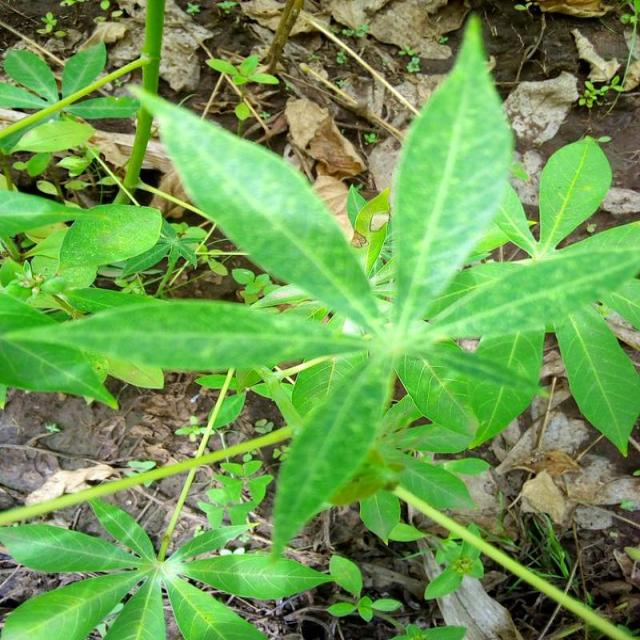cassava leaf: (124, 79, 385, 335), (388, 13, 514, 325)
